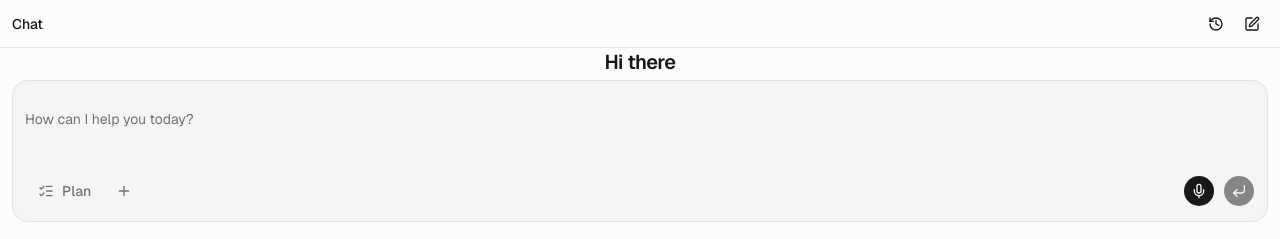
ChatPanel — History and New chat › says "No chats yet." when there are no chats
Press the mouse on the button named "Chat history" at (1216, 24), box [1200,8,1232,40]
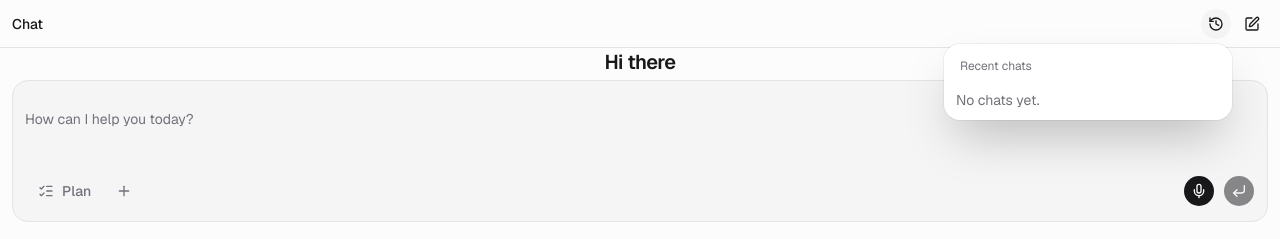
Expected: the text "No chats yet." is shown, [956,91,1040,109]
